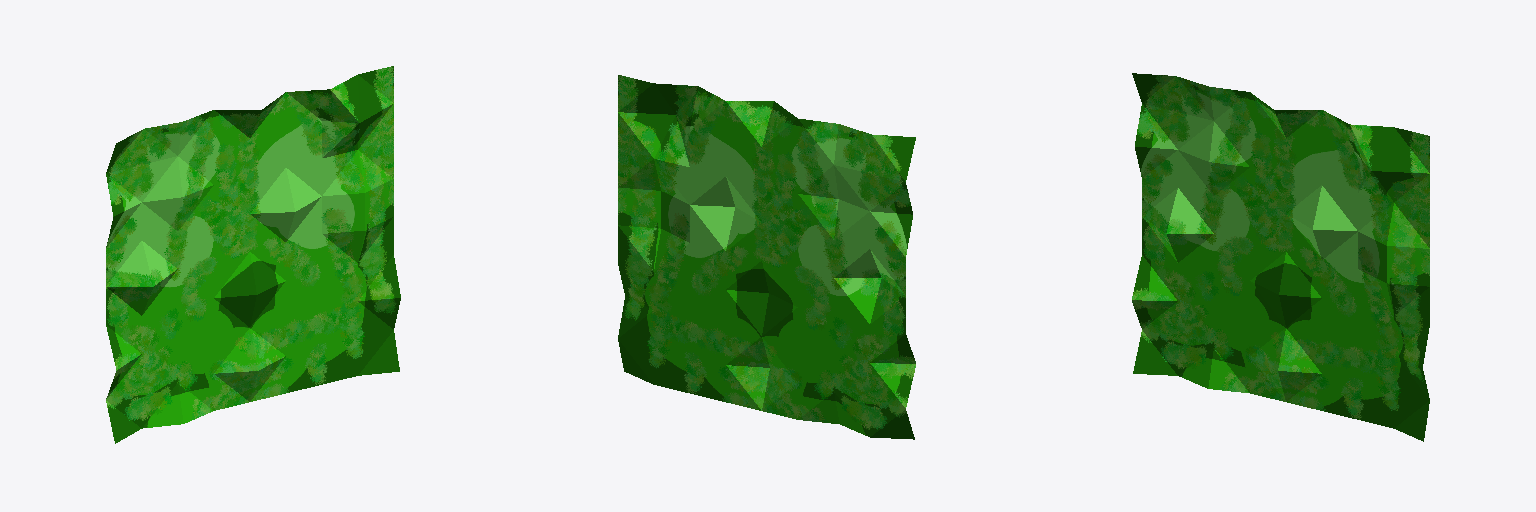
3 views of the same model, side by side, from view 1: azimuth 30°, elevation 25°; view 2: azimuth 150°, elevation 25°; view 3: azimuth 330°, elevation 25° (orthographic).
Parts seen in each view (by area): view 1: 平面; view 2: 平面; view 3: 平面.
Part boxes in pixels (x1,y1,x2,y2): 平面: (106,66,400,443); 平面: (618,75,915,439); 平面: (1132,73,1429,441).
Bounding box in the file's own units: 1760 × 1760 × 128.
1 materials, 1 textured.